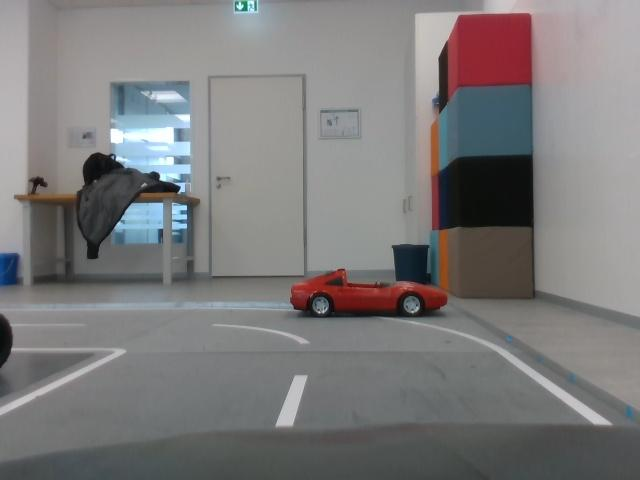car: (288, 263, 454, 323)
